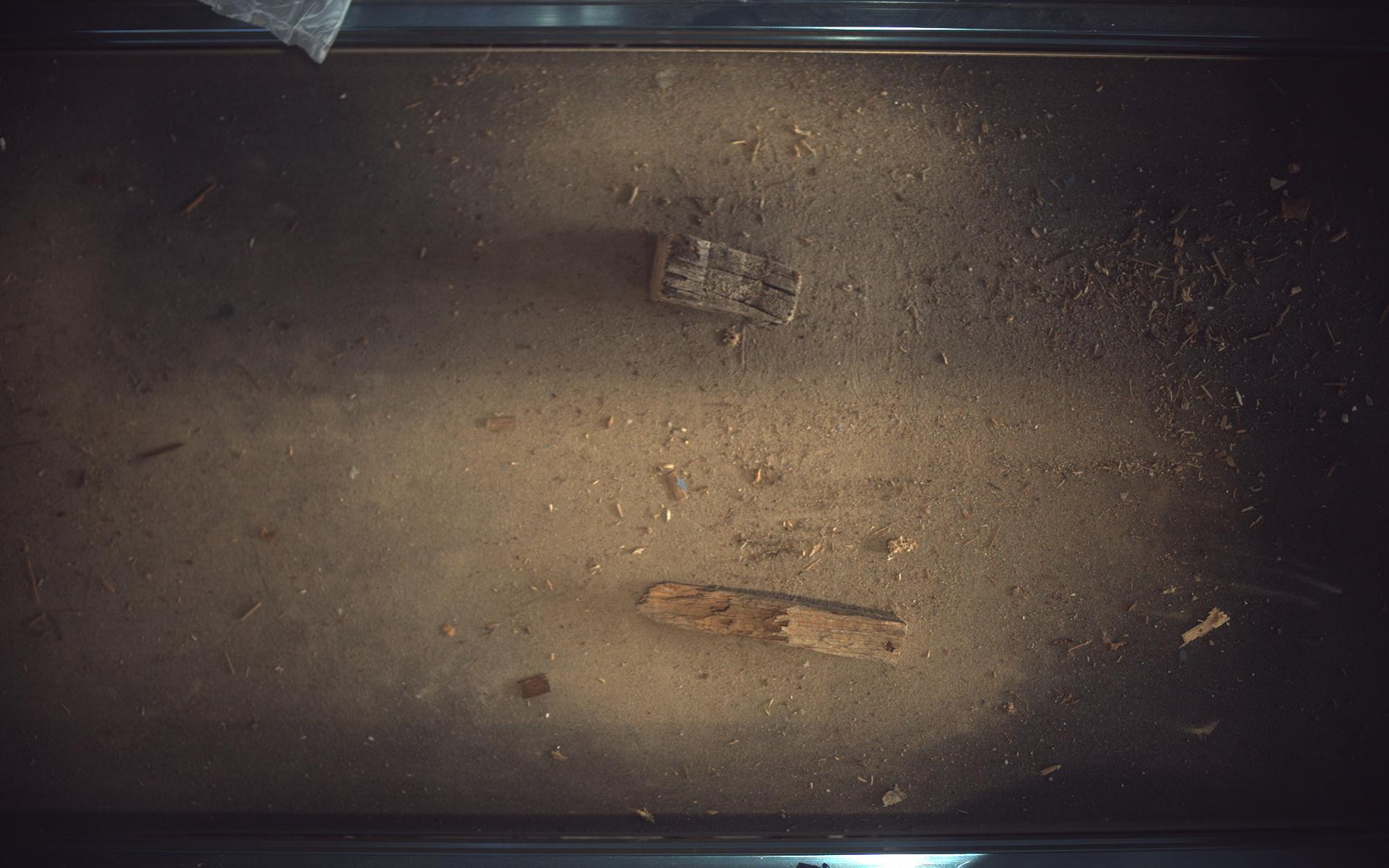wood: (638, 583, 909, 665), (650, 233, 804, 323)
